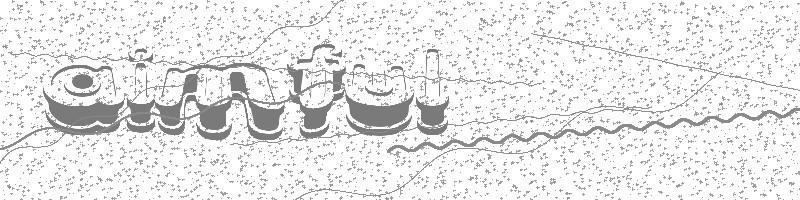a: (42, 63, 125, 136)
f: (287, 43, 347, 141)
i: (127, 47, 156, 134)
l: (415, 48, 451, 136)
m: (155, 62, 287, 141)
u: (346, 63, 414, 136)
